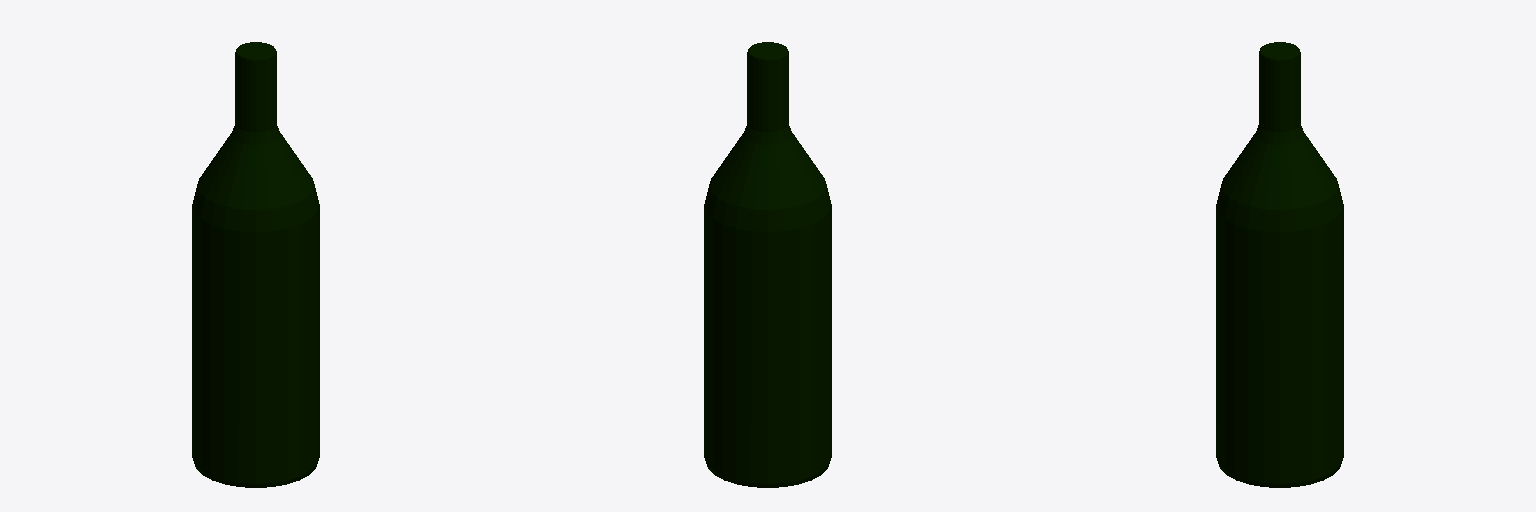
File: Wine_Bottle_1_0.obj
3 views of the same model, side by side, from view 1: azimuth 30°, elevation 25°; view 2: azimuth 150°, elevation 25°; view 3: azimuth 270°, elevation 25° (orthographic).
Size of the model in its own units: 0.0855 by 0.3052 by 0.0856.